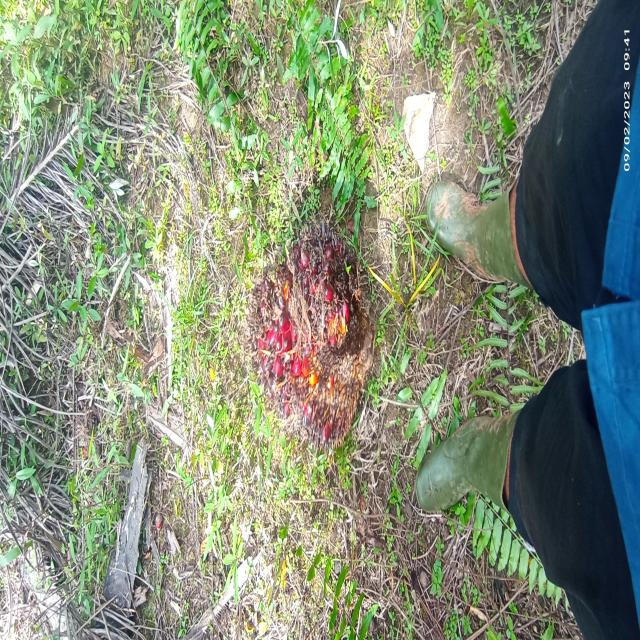fraksi 3: (245, 197, 377, 481)
